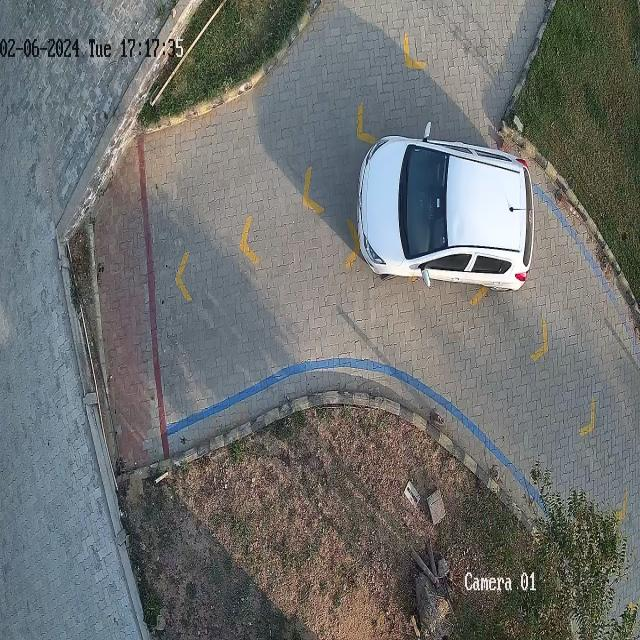car: (358, 124, 535, 289)
